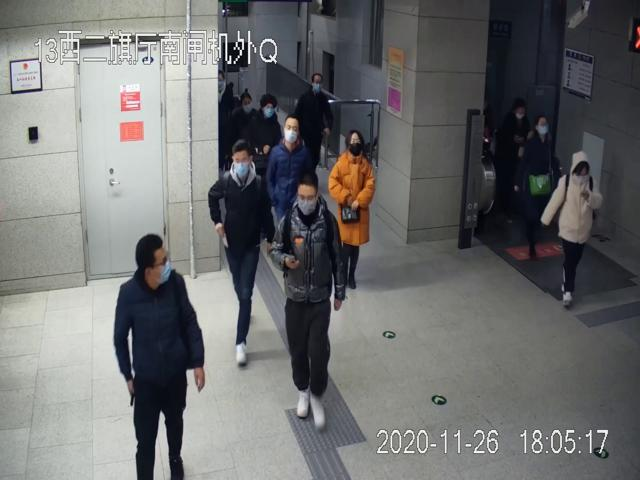person: (113, 234, 205, 480), (271, 172, 346, 433), (207, 141, 271, 364), (543, 151, 603, 305), (329, 129, 375, 293), (268, 115, 317, 223), (294, 72, 332, 162), (246, 91, 282, 158)
